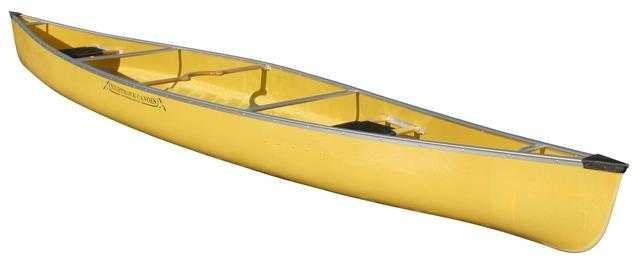kayak: (2, 14, 632, 251)
